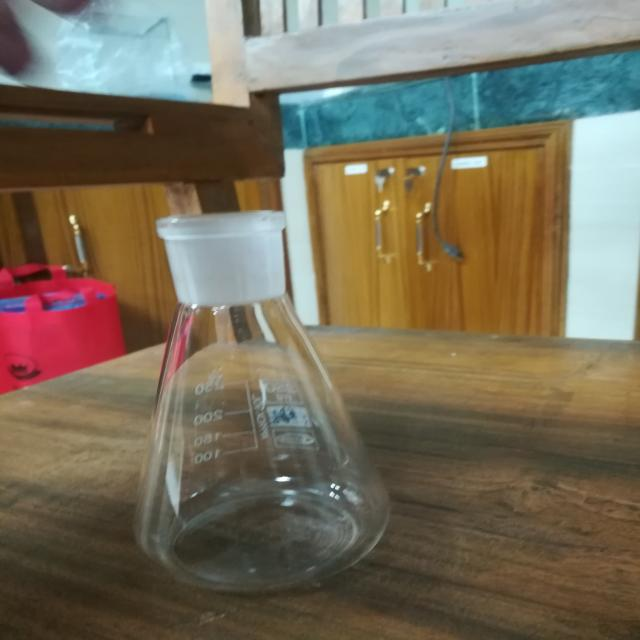Conical_Flask: (100, 183, 428, 618)
